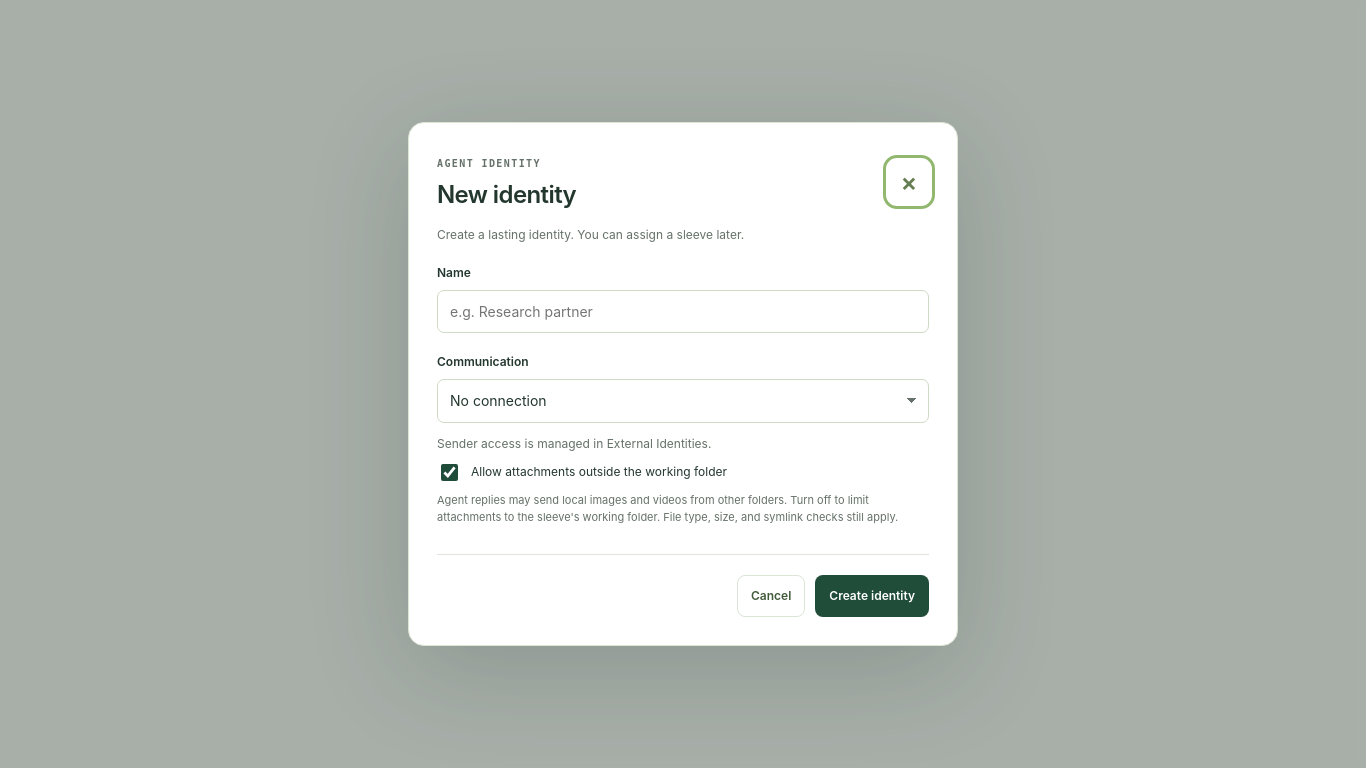
it: identity and communication dialogs › requires a token for a new connection and retains input after a failed save
The width and height of the screenshot is (1366, 768).
In the field with id "identity-name": (683, 312) [437,290,929,333], type "Research"
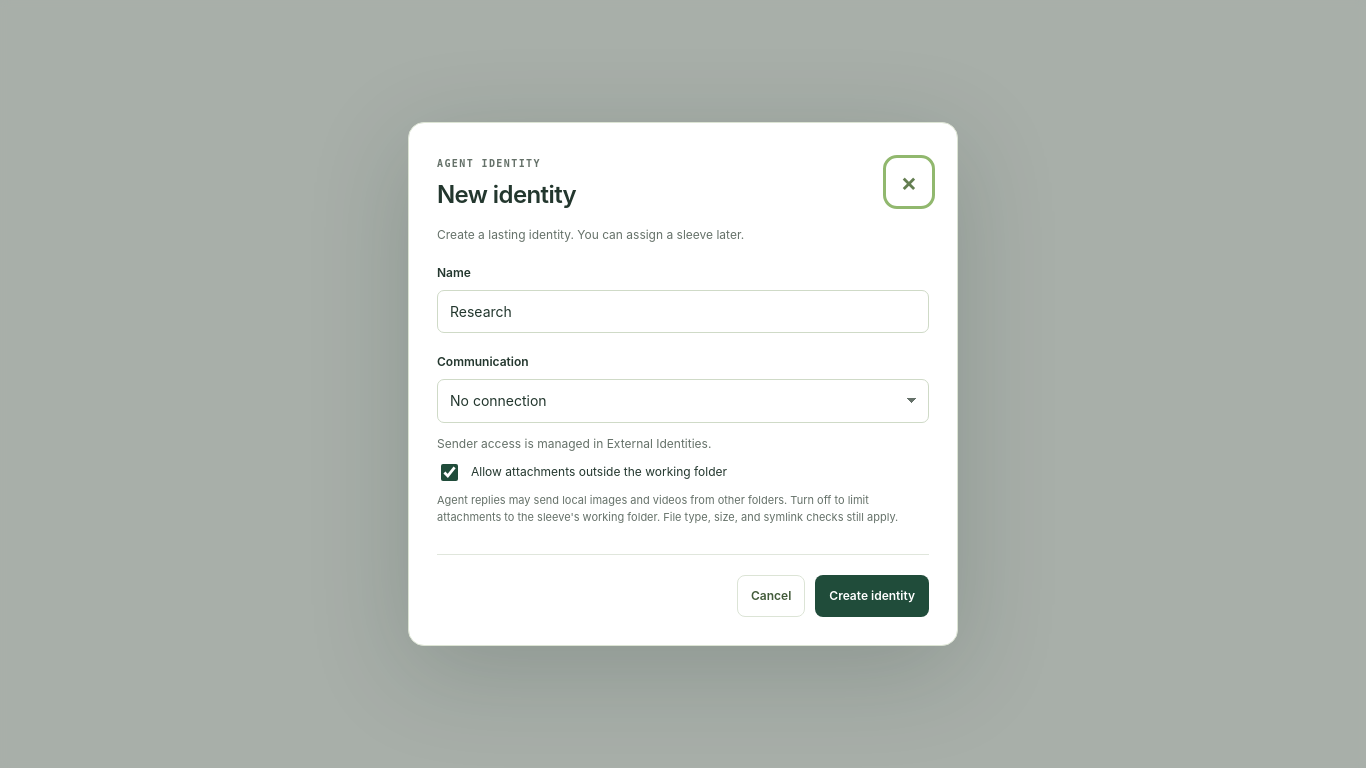
Select "Telegram bot" in the dropdown with id "communication-method": (683, 401) [437,379,929,423]
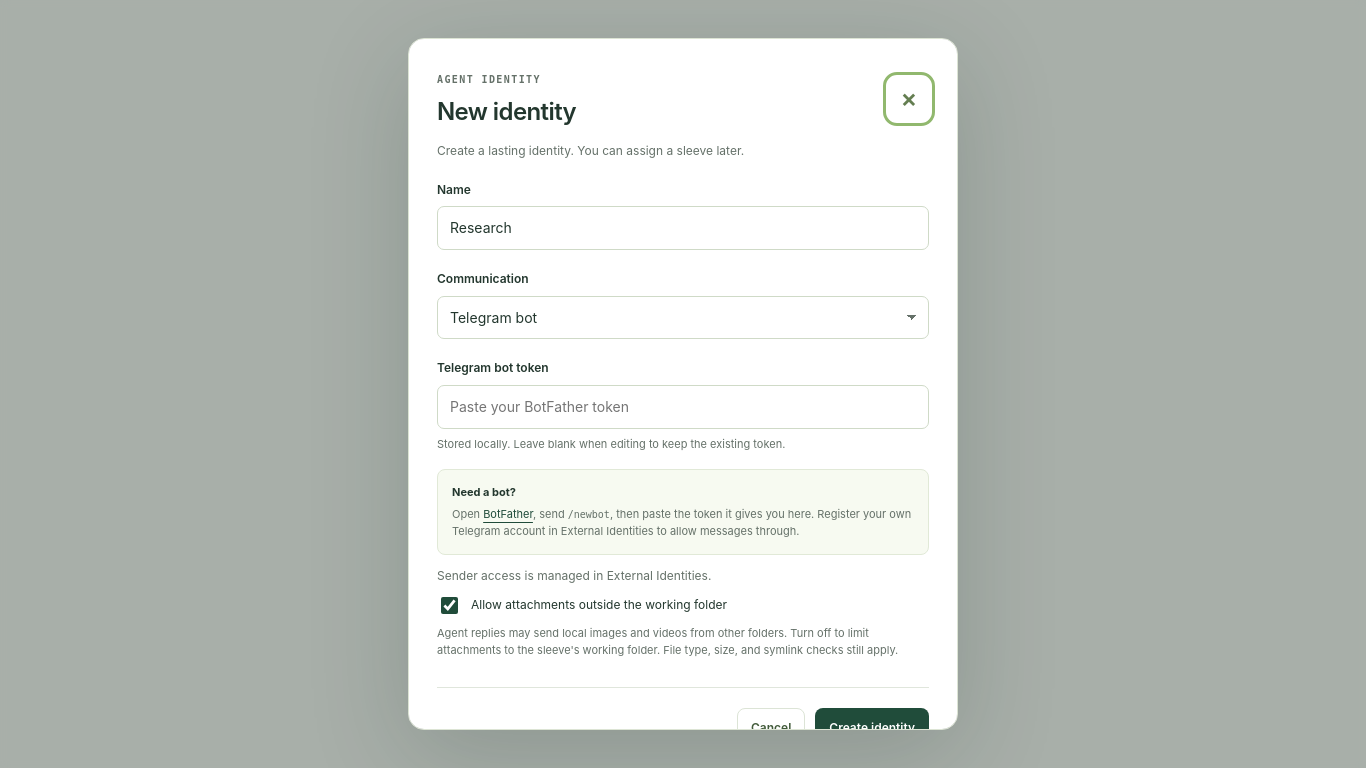
In the password field with id "bot-token": (683, 407) [437,385,929,429], type "invalid-token"
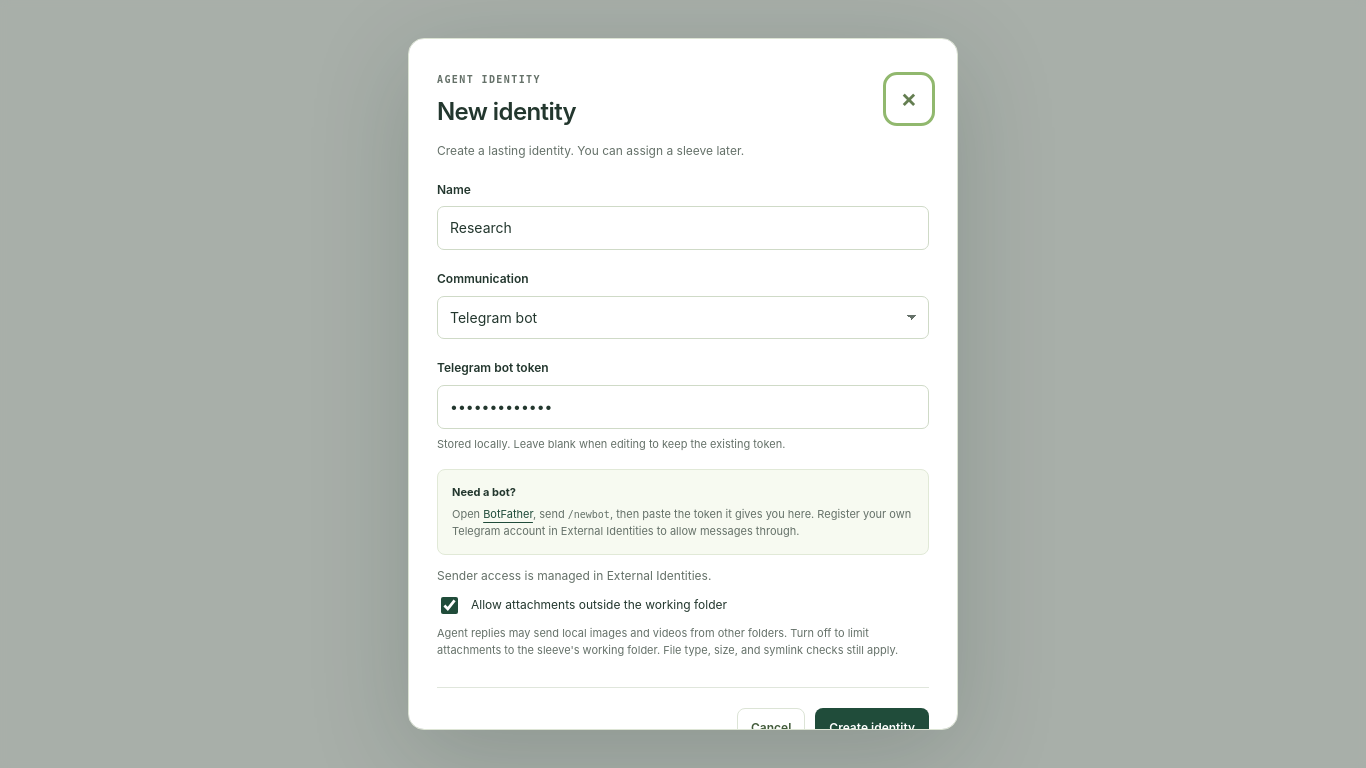
Submit the form, box [437,161,929,750]
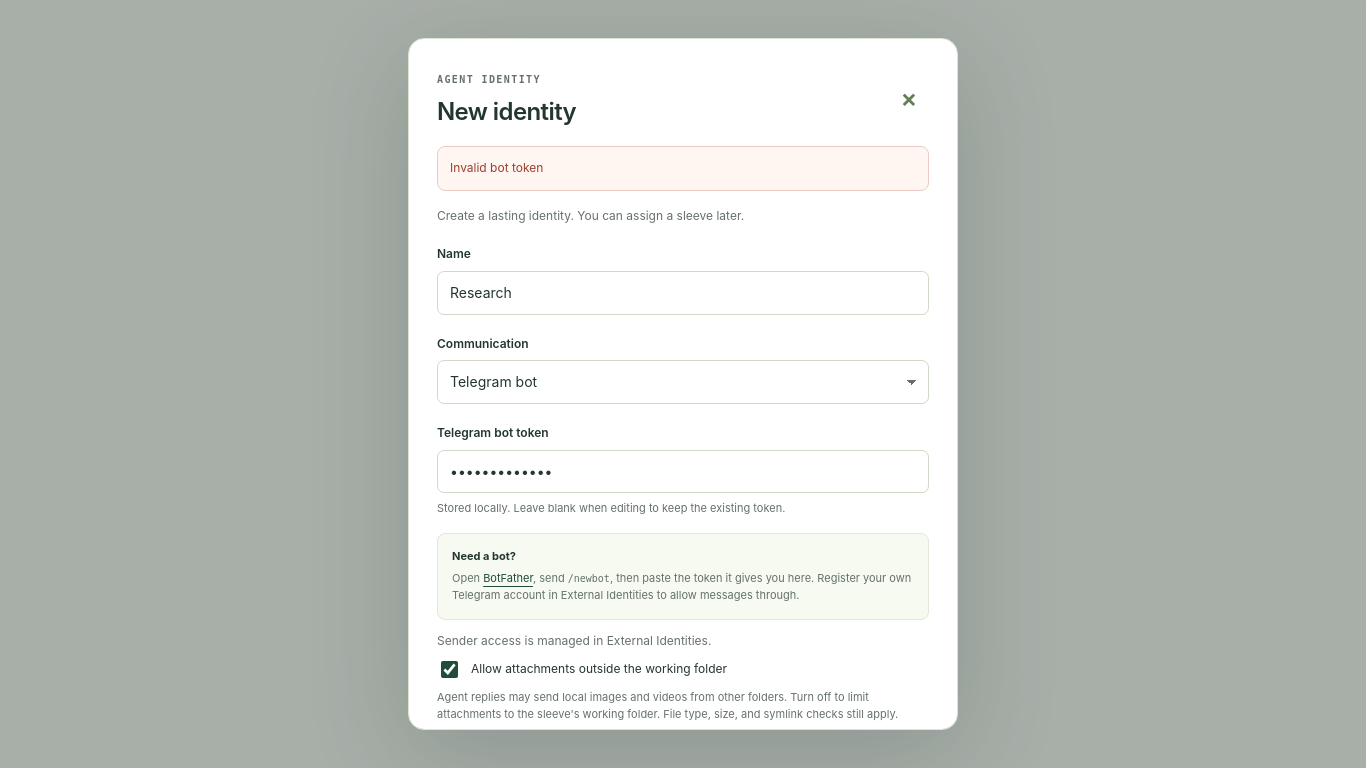
Result: the message "Invalid bot token" is shown at [437,146,929,191]
